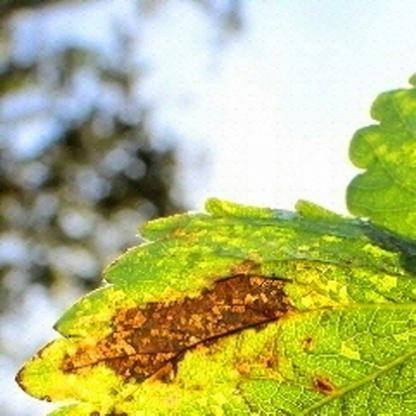Strawberry_Angular_LeafSpot: (13, 197, 415, 415)
